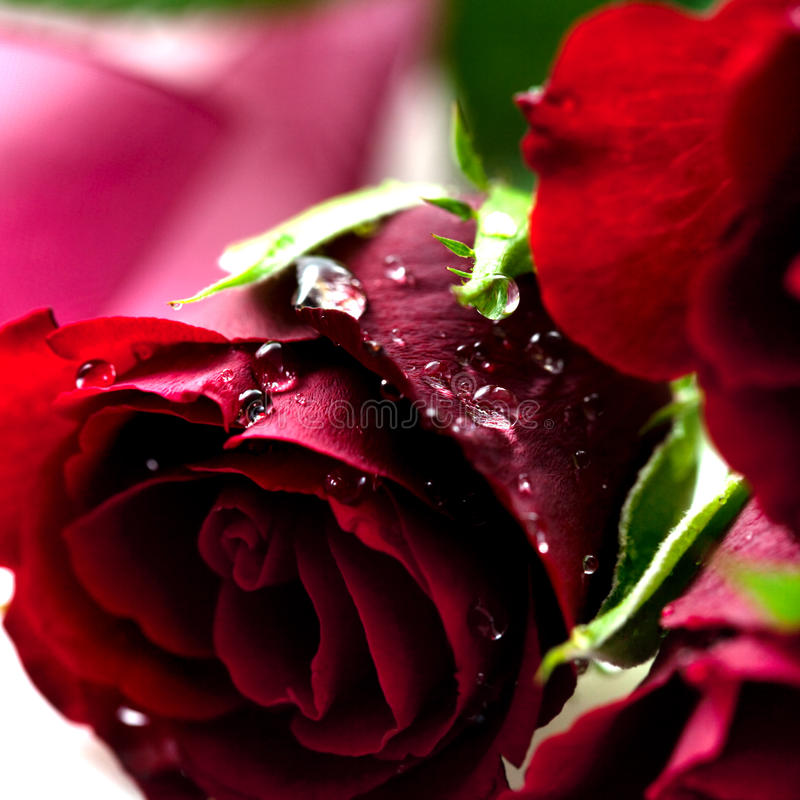RedRose: (27, 282, 489, 744), (487, 27, 800, 386)
